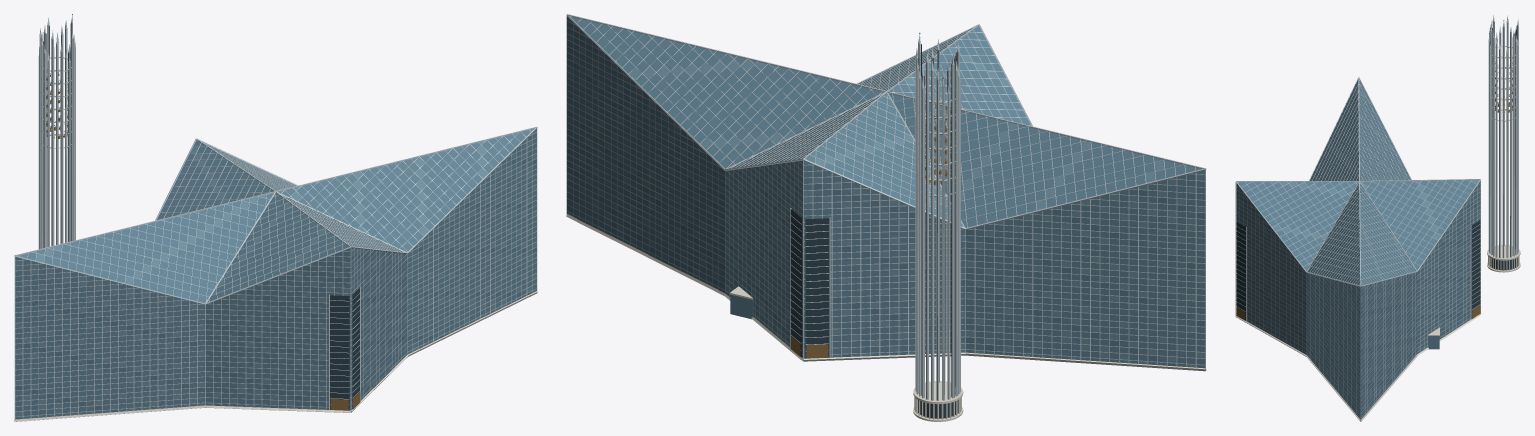
The model's file is christ-cathedral-near.glb.
3 renders of one model, left to right at view 1: azimuth 30°, elevation 25°; view 2: azimuth 150°, elevation 25°; view 3: azimuth 270°, elevation 25°, orthographic. The views are drawn at different scales.
Visible parts, largest first — view 1: christ-cathedral-0-glass, christ-cathedral-0-lattice, christ-cathedral-0-glassPale, christ-cathedral-0-steel, christ-cathedral-0-glassDeep, christ-cathedral-0-shadow, christ-cathedral-0-glow, christ-cathedral-0-stone, christ-cathedral-0-bronze; view 2: christ-cathedral-0-glass, christ-cathedral-0-lattice, christ-cathedral-0-glassPale, christ-cathedral-0-steel, christ-cathedral-0-shadow, christ-cathedral-0-glassDeep, christ-cathedral-0-glow, christ-cathedral-0-stone, christ-cathedral-0-bronze; view 3: christ-cathedral-0-glass, christ-cathedral-0-lattice, christ-cathedral-0-steel, christ-cathedral-0-glassPale, christ-cathedral-0-shadow, christ-cathedral-0-glassDeep, christ-cathedral-0-stone, christ-cathedral-0-glow, christ-cathedral-0-bronze.
Boxes of the visible parts, bbox=[...] form: christ-cathedral-0-glass: bbox=[15, 129, 536, 421]; christ-cathedral-0-lattice: bbox=[14, 128, 537, 420]; christ-cathedral-0-glassPale: bbox=[15, 129, 536, 420]; christ-cathedral-0-steel: bbox=[14, 15, 537, 410]; christ-cathedral-0-glassDeep: bbox=[15, 158, 536, 414]; christ-cathedral-0-shadow: bbox=[43, 23, 359, 410]; christ-cathedral-0-glow: bbox=[15, 14, 536, 391]; christ-cathedral-0-stone: bbox=[14, 291, 537, 421]; christ-cathedral-0-bronze: bbox=[46, 73, 360, 410]; christ-cathedral-0-glass: bbox=[567, 16, 1205, 371]; christ-cathedral-0-lattice: bbox=[566, 16, 1205, 370]; christ-cathedral-0-glassPale: bbox=[567, 22, 1205, 370]; christ-cathedral-0-steel: bbox=[566, 14, 1206, 400]; christ-cathedral-0-shadow: bbox=[791, 44, 958, 418]; christ-cathedral-0-glassDeep: bbox=[567, 62, 1205, 366]; christ-cathedral-0-glow: bbox=[567, 32, 1205, 338]; christ-cathedral-0-stone: bbox=[566, 214, 1206, 421]; christ-cathedral-0-bronze: bbox=[791, 105, 951, 358]; christ-cathedral-0-glass: bbox=[1236, 79, 1480, 418]; christ-cathedral-0-lattice: bbox=[1235, 79, 1480, 420]; christ-cathedral-0-steel: bbox=[1235, 15, 1518, 321]; christ-cathedral-0-glassPale: bbox=[1236, 87, 1480, 419]; christ-cathedral-0-shadow: bbox=[1236, 22, 1517, 320]; christ-cathedral-0-glassDeep: bbox=[1236, 190, 1480, 416]; christ-cathedral-0-stone: bbox=[1235, 245, 1520, 421]; christ-cathedral-0-glow: bbox=[1246, 20, 1504, 400]; christ-cathedral-0-bronze: bbox=[1236, 63, 1512, 320].
Size of the model in its own units: 128 by 71.94 by 73.98.
